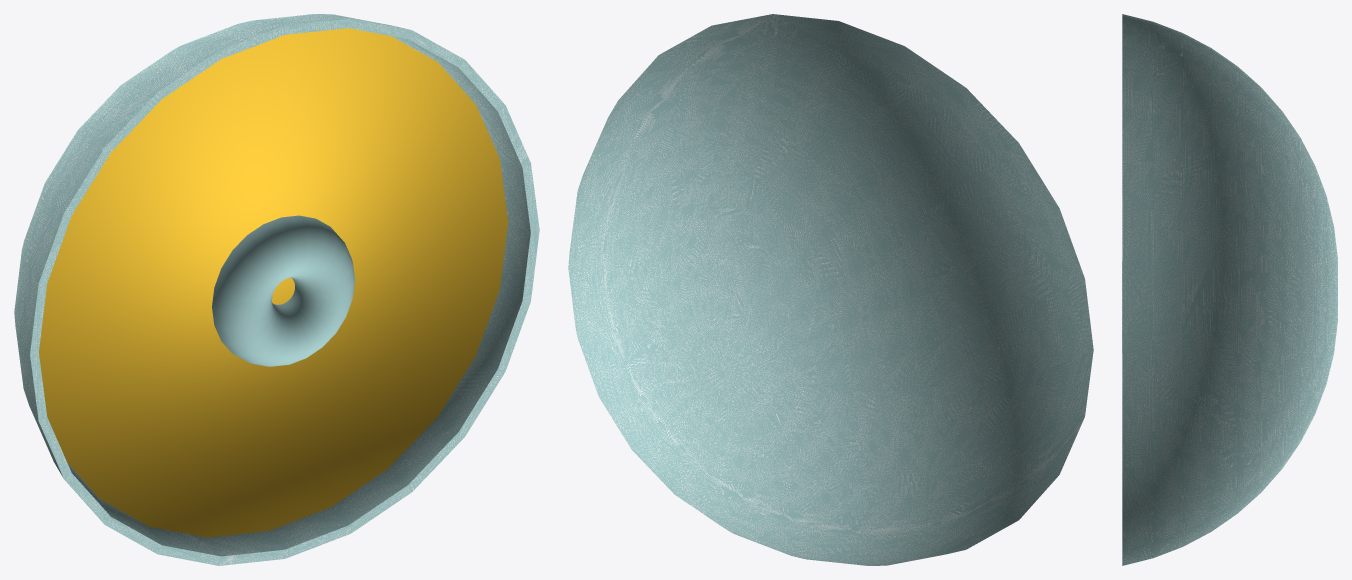
Rendered from model_align.obj.
The picture shows the model from 3 angles, left to right: view 1: azimuth 30°, elevation 25°; view 2: azimuth 150°, elevation 25°; view 3: azimuth 270°, elevation 25°; orthographic projection. The views are drawn at different scales.
Parts seen in each view (by area): view 1: mesh3_mesh3-geometry, mesh1_mesh1-geometry; view 2: mesh3_mesh3-geometry; view 3: mesh3_mesh3-geometry.
Boxes of the visible parts, x1,y1,x2,y2 form: mesh3_mesh3-geometry: (14, 14, 539, 565); mesh1_mesh1-geometry: (212, 215, 354, 366); mesh3_mesh3-geometry: (568, 14, 1093, 565); mesh3_mesh3-geometry: (1122, 14, 1337, 565).
Bounding box in the file's own units: 0.1432 × 0.1432 × 0.0558.
